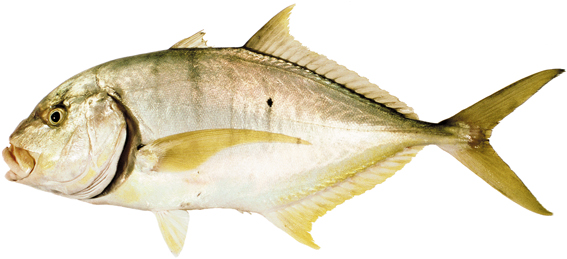fish: (2, 3, 567, 258)
